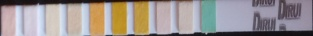color 1: (2, 7, 14, 36)
color 10: (202, 1, 215, 31)
color 2: (24, 7, 36, 36)
color 3: (46, 5, 59, 36)
color 4: (68, 5, 80, 36)
color 5: (90, 4, 103, 36)
color 6: (112, 3, 126, 34)
color 7: (135, 3, 148, 33)
color 8: (157, 3, 170, 32)
color 9: (179, 2, 191, 32)
